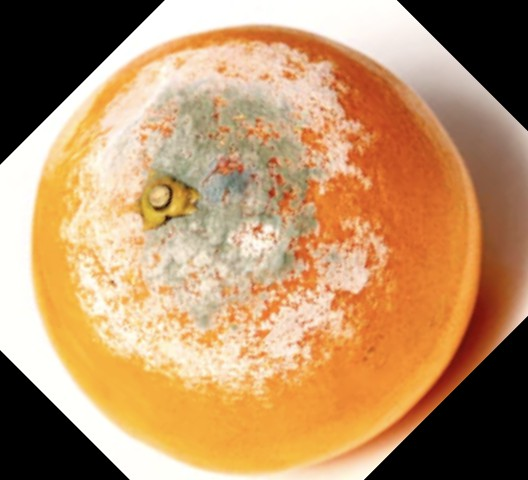rotten_orange: (31, 24, 482, 473)
